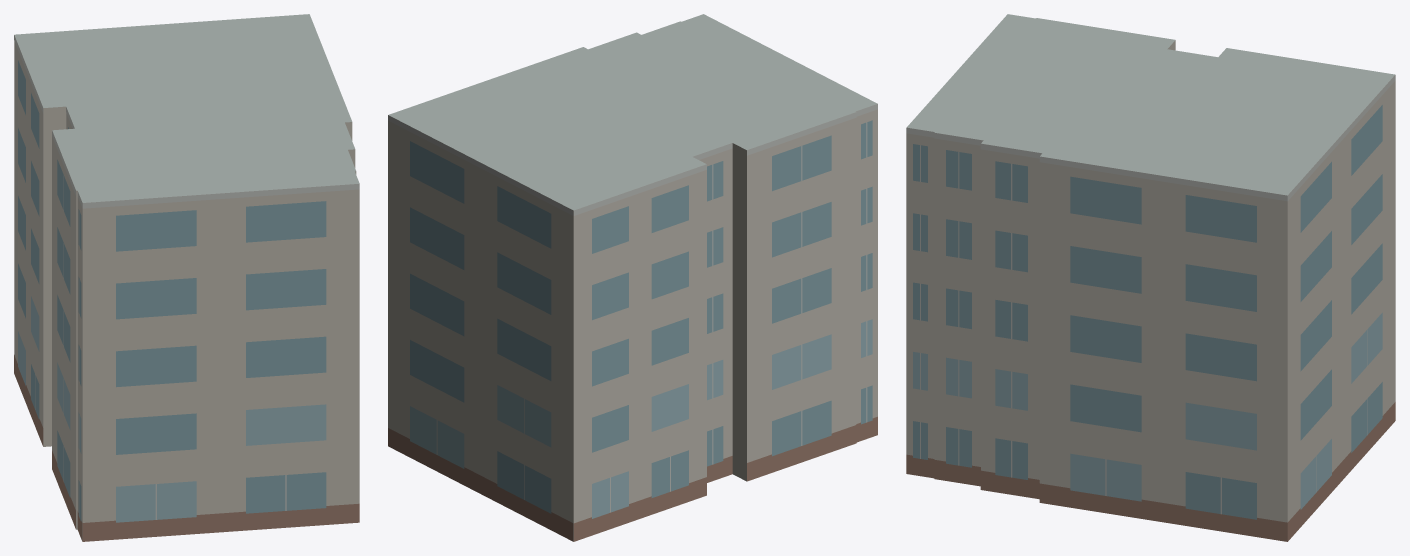
File: survey-upis-32944109.glb
3 views of the same model, side by side, from view 1: azimuth 30°, elevation 25°; view 2: azimuth 150°, elevation 25°; view 3: azimuth 270°, elevation 25° (orthographic). The views are drawn at different scales.
Parts seen in each view (by area): view 1: survey-upis-32944109.tmp; view 2: survey-upis-32944109.tmp; view 3: survey-upis-32944109.tmp.
Part boxes in pixels (x1=…): survey-upis-32944109.tmp: x1=14, y1=14, x2=359, y2=541; survey-upis-32944109.tmp: x1=388, y1=14, x2=877, y2=541; survey-upis-32944109.tmp: x1=906, y1=14, x2=1395, y2=541.
Size of the model in its own units: 16.37 by 14.55 by 18.63.
